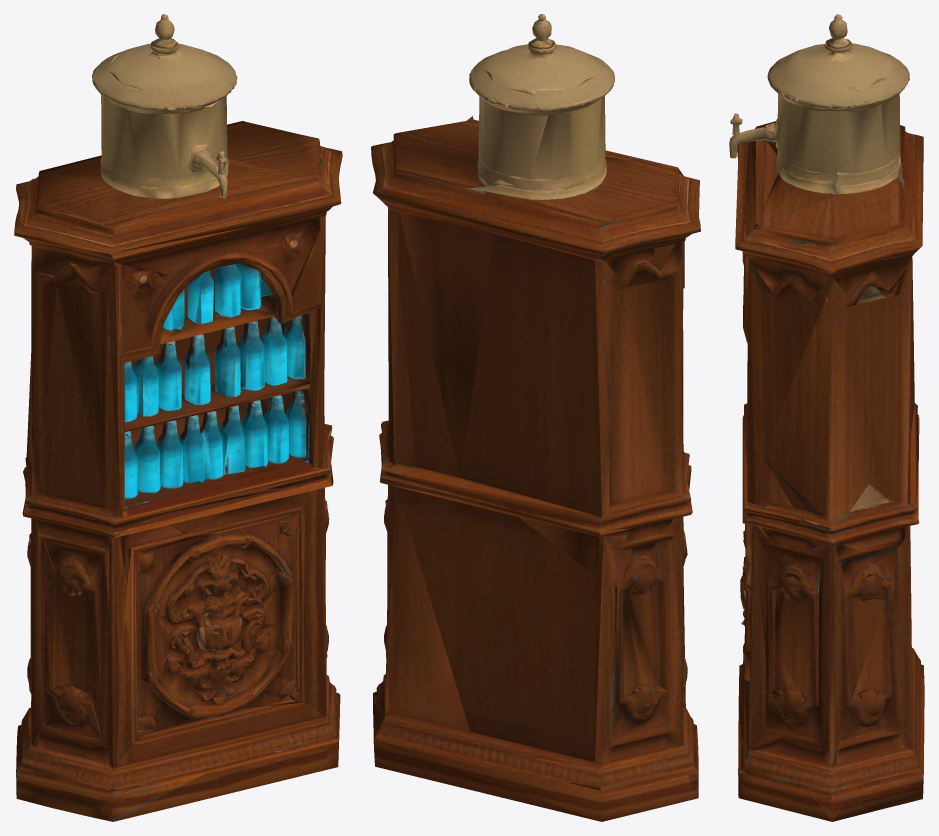
The model's file is perk_lifeline_lh.glb.
The picture shows the model from 3 angles, left to right: view 1: azimuth 30°, elevation 25°; view 2: azimuth 150°, elevation 25°; view 3: azimuth 270°, elevation 25°; orthographic projection. The views are drawn at different scales.
Parts seen in each view (by area): view 1: perk_lifeline_lh; view 2: perk_lifeline_lh; view 3: perk_lifeline_lh.
Boxes of the visible parts, x1,y1,x2,y2 form: perk_lifeline_lh: [14, 14, 342, 821]; perk_lifeline_lh: [371, 14, 700, 821]; perk_lifeline_lh: [729, 14, 924, 821].
Size of the model in its own units: 0.965 by 2.1 by 0.5117.
1 material, 1 textured.
